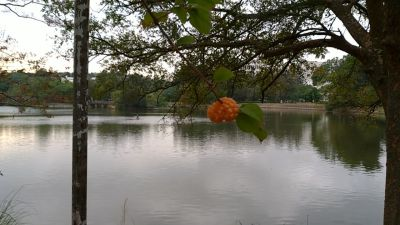eggs: (206, 95, 241, 122)
